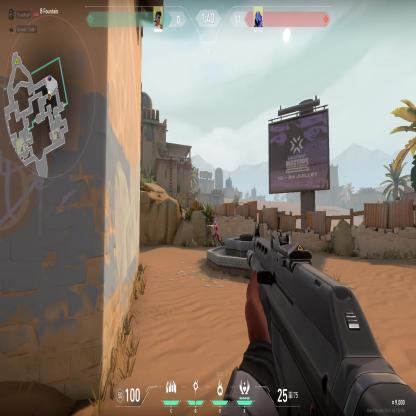enemy: (209, 219, 223, 247)
